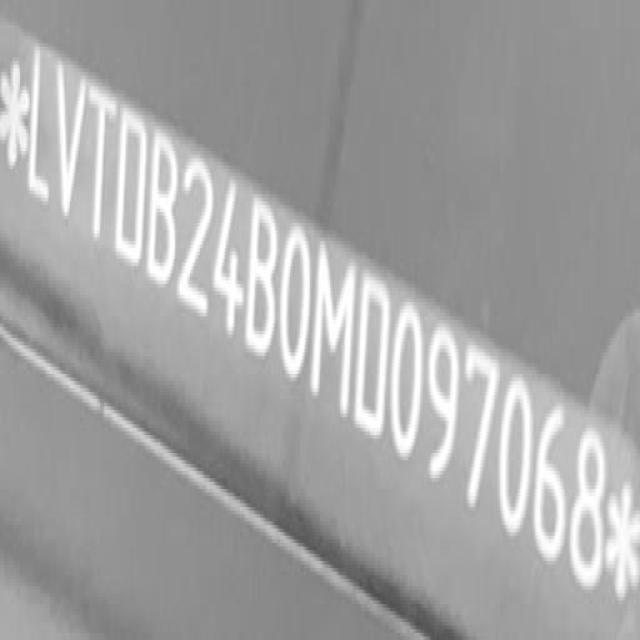0: (494, 371, 542, 550), (386, 296, 428, 478), (279, 218, 319, 393)
2: (178, 154, 216, 320)
4: (212, 171, 246, 343)
6: (529, 393, 577, 572)
7: (457, 342, 500, 525)
8: (566, 421, 613, 598)
9: (421, 316, 465, 497)
B: (244, 193, 283, 367), (144, 128, 180, 296)
D: (354, 268, 394, 454), (114, 107, 150, 274)
L: (28, 46, 58, 213)
M: (308, 238, 361, 426)
T: (87, 80, 119, 247)
V: (53, 57, 90, 232)
